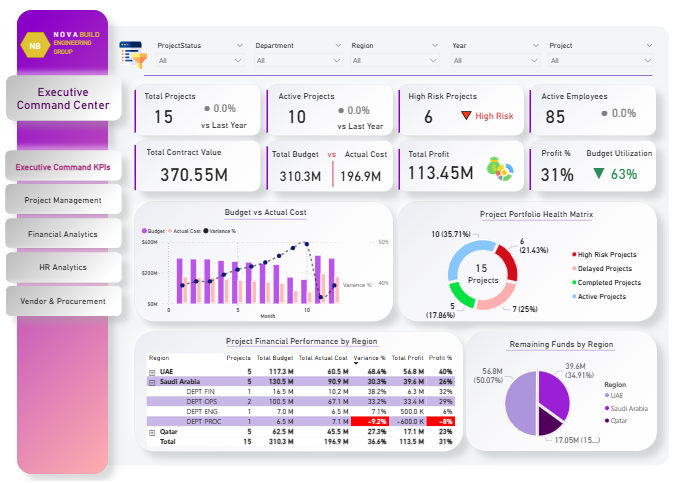

Layout of this report page (visuals, bound fields, positions):
{"tool":"powerbi","page":{"name":"Executive Command KPIs","canvas":[1380,980],"ordinal":0},"visuals":[{"type":"shape","box":[63.9,68.1,61.9,51.5],"z":0,"group":"g3"},{"type":"cardVisual","fields":{"Data":["Measures Table.Total Projects"]},"box":[287.2,174.4,125.6,100],"z":0},{"type":"cardVisual","title":"Projects","fields":{"Data":["Measures Table.Total Projects"]},"box":[946.8,501.3,81,58.2],"z":0,"group":"g1"},{"type":"textbox","box":[74.2,80.4,40.2,35.1],"z":1000,"group":"g3"},{"type":"slicer","fields":{"Values":["DimDate.Year"]},"box":[916,83,198.9,59.1],"z":1000},{"type":"textbox","box":[946.8,548.1,89.8,34.8],"z":1000,"group":"g1"},{"type":"textbox","box":[125.8,58.8,121.6,60.8],"z":2000,"group":"g3"},{"type":"cardVisual","fields":{"Data":["Measures Table.YoY Project Growth Display"]},"box":[413.3,174.7,149.4,83.1],"z":2000},{"type":"textbox","box":[308.3,180.2,199,35.4],"z":3000},{"type":"textbox","box":[408.2,238.8,128.2,35.3],"z":4000},{"type":"cardVisual","fields":{"Data":["Measures Table.Active Projects"]},"box":[552.9,174.1,130.6,100],"z":5000},{"type":"cardVisual","fields":{"Data":["Measures Table.YoY Active Projects Growth Display"]},"box":[681.7,179.5,132.5,77.1],"z":6000,"group":"g2"},{"type":"textbox","box":[575,180.2,124,35.4],"z":6000},{"type":"cardVisual","fields":{"Data":["Measures Table.High Risk Projects"]},"box":[816.5,174.1,130.6,100],"z":7000},{"type":"cardVisual","fields":{"Data":["Measures Table.High Risk Projects Display"]},"box":[926,191.7,144.8,75],"z":8000},{"type":"textbox","box":[683.6,239,122.1,32.4],"z":8000,"group":"g2"},{"type":"textbox","box":[835.4,180.2,197.9,35.4],"z":9000},{"type":"cardVisual","fields":{"Data":["Measures Table.Active Employees"]},"box":[1078.2,174.4,114.1,100],"z":10000},{"type":"cardVisual","fields":{"Data":["Measures Table.YoY Employee Growth Display"]},"box":[1207.1,182.4,123.5,84.7],"z":11000},{"type":"textbox","box":[1102.1,180.2,152.1,35.4],"z":12000},{"type":"cardVisual","fields":{"Data":["Measures Table.Total Contract Value"]},"box":[287.5,284.4,249,105.2],"z":13000},{"type":"textbox","box":[312.5,292.7,224,33.3],"z":14000},{"type":"cardVisual","fields":{"Data":["Measures Table.Total Actual Cost"]},"box":[675.3,292.9,137.6,96.5],"z":15000},{"type":"textbox","box":[554.1,295.3,258.8,30.6],"z":16000},{"type":"cardVisual","fields":{"Data":["Measures Table.Project Profit"]},"box":[816.5,292.9,258.8,96.5],"z":17000},{"type":"cardVisual","fields":{"Data":["Measures Table.Profit Margin %"]},"box":[1078.2,292.3,121.8,97.4],"z":18000},{"type":"textbox","box":[836.2,295.7,198.9,30.9],"z":19000},{"type":"textbox","box":[1102.1,294.7,76.6,30.9],"z":20000},{"type":"cardVisual","fields":{"Data":["Measures Table.Total Budget"]},"box":[552.9,292.9,145.9,96.5],"z":21000},{"type":"cardVisual","fields":{"Data":["Measures Table.Project Budget Utilization Display"]},"box":[1183,307.4,141.5,77.7],"z":22000},{"type":"textbox","box":[1192.6,294.7,154.3,30.9],"z":23000},{"type":"slicer","fields":{"Values":["DimRegion.Region"]},"box":[714.9,83,198.9,59.1],"z":24000},{"type":"donutChart","fields":{"Y":["Measures Table.High Risk Projects","Measures Table.Delayed Projects","Measures Table.Completed Projects","Measures Table.Active Projects"]},"box":[807.6,453.2,526.6,200],"z":25000},{"type":"group","id":"g1","title":"Group 1","box":[946.8,501.3,88.6,81],"z":26000},{"type":"lineClusteredColumnComboChart","fields":{"Category":["DimDate.Month"],"Y":["Measures Table.Total Budget","Measures Table.Total Actual Cost"],"Y2":["Measures Table.Variance %"]},"box":[301.1,445.6,504.4,200],"z":27000},{"type":"pivotTable","fields":{"Rows":["DimRegion.Region","DimProjects.DepartmentID"],"Values":["Measures Table.Total Projects","Measures Table.Total Budget","Measures Table.Total Actual Cost","Measures Table.Variance %","Measures Table.Project Profit","Measures Table.Profit Margin %"]},"box":[311.1,705.1,634.3,202],"z":28000},{"type":"pieChart","fields":{"Category":["DimRegion.Region"],"Y":["Measures Table.Budget Remaining"]},"box":[959.6,713.8,374.5,193.6],"z":29000},{"type":"slicer","fields":{"Values":["DimProjects.DepartmentID"]},"box":[521.7,83,197.7,59.1],"z":30000},{"type":"slicer","fields":{"Values":["DimProjects.ProjectStatus"]},"box":[325.1,83,196.6,59.1],"z":31000},{"type":"pageNavigator","box":[34.6,307.7,232.1,329.5],"z":32000},{"type":"textbox","box":[34.4,168.9,232.8,82],"z":33000},{"type":"group","id":"g2","title":"Group 2","box":[681.7,179.5,132.5,91.9],"z":34000},{"type":"shape","box":[681.2,326,15.6,52.1],"z":35000},{"type":"textbox","box":[306.4,412.8,498.9,33],"z":36000},{"type":"textbox","box":[848.1,415.2,498.7,32.9],"z":37000},{"type":"textbox","box":[959.6,676.6,374.5,33],"z":38000},{"type":"textbox","box":[310.6,670.2,635.1,33],"z":39000},{"type":"shape","box":[987.3,417.7,220.3,53.2],"z":40000},{"type":"shape","box":[472.2,415.2,164.6,53.2],"z":41000},{"type":"shape","box":[1036.7,678.5,217.7,53.2],"z":42000},{"type":"shape","box":[477.1,670.6,303.7,53.2],"z":43000},{"type":"slicer","fields":{"Values":["DimProjects.ProjectName"]},"box":[1110.4,83,231.8,59.1],"z":44000},{"type":"image","box":[256.8,83,68.2,64.8],"z":45000},{"type":"group","id":"g3","title":"Group 3","box":[63.9,58.8,183.5,60.8],"z":46000},{"type":"shape","box":[311.7,140,1016.7,30],"z":47000}]}

Visuals, with their boxes on the page's 1380x980 design canvas (x1, y1, x2, y2). These are canvas units, not pixel positions in the 674x483 screenshot, which may show the page scaled, cropped or inside an application window:
shape: bbox=[64, 68, 126, 120]
cardVisual - Measures Table.Total Projects: bbox=[287, 174, 413, 274]
"Projects" cardVisual: bbox=[947, 501, 1028, 560]
textbox: bbox=[74, 80, 114, 116]
slicer - DimDate.Year: bbox=[916, 83, 1115, 142]
textbox: bbox=[947, 548, 1037, 583]
textbox: bbox=[126, 59, 247, 120]
cardVisual - Measures Table.YoY Project Growth Display: bbox=[413, 175, 563, 258]
textbox: bbox=[308, 180, 507, 216]
textbox: bbox=[408, 239, 536, 274]
cardVisual - Measures Table.Active Projects: bbox=[553, 174, 684, 274]
cardVisual - Measures Table.YoY Active Projects Growth Display: bbox=[682, 180, 814, 257]
textbox: bbox=[575, 180, 699, 216]
cardVisual - Measures Table.High Risk Projects: bbox=[816, 174, 947, 274]
cardVisual - Measures Table.High Risk Projects Display: bbox=[926, 192, 1071, 267]
textbox: bbox=[684, 239, 806, 271]
textbox: bbox=[835, 180, 1033, 216]
cardVisual - Measures Table.Active Employees: bbox=[1078, 174, 1192, 274]
cardVisual - Measures Table.YoY Employee Growth Display: bbox=[1207, 182, 1331, 267]
textbox: bbox=[1102, 180, 1254, 216]
cardVisual - Measures Table.Total Contract Value: bbox=[288, 284, 536, 390]
textbox: bbox=[312, 293, 536, 326]
cardVisual - Measures Table.Total Actual Cost: bbox=[675, 293, 813, 389]
textbox: bbox=[554, 295, 813, 326]
cardVisual - Measures Table.Project Profit: bbox=[816, 293, 1075, 389]
cardVisual - Measures Table.Profit Margin %: bbox=[1078, 292, 1200, 390]
textbox: bbox=[836, 296, 1035, 327]
textbox: bbox=[1102, 295, 1179, 326]
cardVisual - Measures Table.Total Budget: bbox=[553, 293, 699, 389]
cardVisual - Measures Table.Project Budget Utilization Display: bbox=[1183, 307, 1324, 385]
textbox: bbox=[1193, 295, 1347, 326]
slicer - DimRegion.Region: bbox=[715, 83, 914, 142]
donutChart - Measures Table.High Risk Projects x Measures Table.Delayed Projects: bbox=[808, 453, 1334, 653]
"Group 1" group: bbox=[947, 501, 1035, 582]
lineClusteredColumnComboChart - DimDate.Month x Measures Table.Total Budget: bbox=[301, 446, 806, 646]
pivotTable - DimRegion.Region x DimProjects.DepartmentID: bbox=[311, 705, 945, 907]
pieChart - DimRegion.Region x Measures Table.Budget Remaining: bbox=[960, 714, 1334, 907]
slicer - DimProjects.DepartmentID: bbox=[522, 83, 719, 142]
slicer - DimProjects.ProjectStatus: bbox=[325, 83, 522, 142]
pageNavigator: bbox=[35, 308, 267, 637]
textbox: bbox=[34, 169, 267, 251]
"Group 2" group: bbox=[682, 180, 814, 271]
shape: bbox=[681, 326, 697, 378]
textbox: bbox=[306, 413, 805, 446]
textbox: bbox=[848, 415, 1347, 448]
textbox: bbox=[960, 677, 1334, 710]
textbox: bbox=[311, 670, 946, 703]
shape: bbox=[987, 418, 1208, 471]
shape: bbox=[472, 415, 637, 468]
shape: bbox=[1037, 678, 1254, 732]
shape: bbox=[477, 671, 781, 724]
slicer - DimProjects.ProjectName: bbox=[1110, 83, 1342, 142]
image: bbox=[257, 83, 325, 148]
"Group 3" group: bbox=[64, 59, 247, 120]
shape: bbox=[312, 140, 1328, 170]
